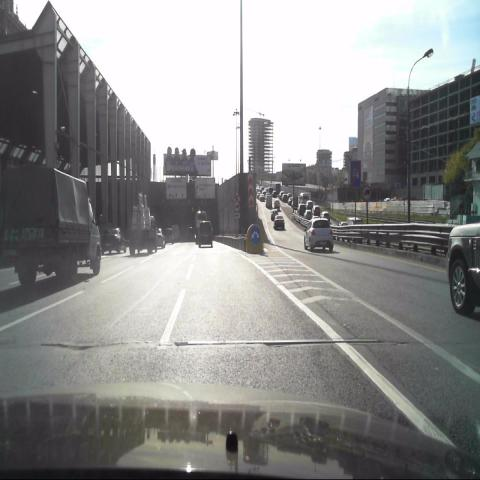5_4: (350, 160, 361, 186)
